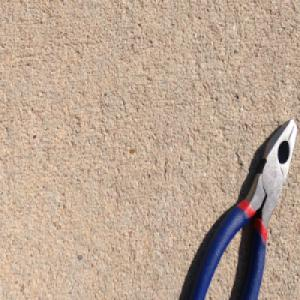Pliers: (183, 115, 291, 300)
